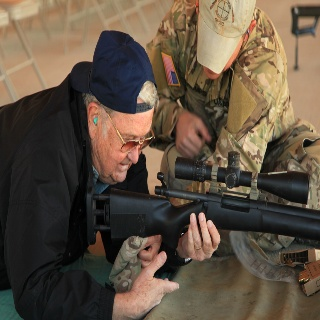rifle: (85, 149, 320, 255)
